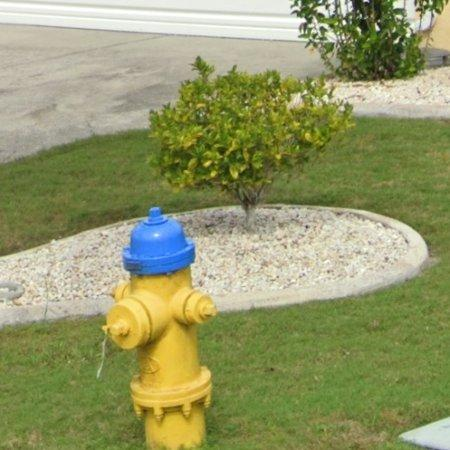a fire hydrant: (103, 208, 217, 450)
